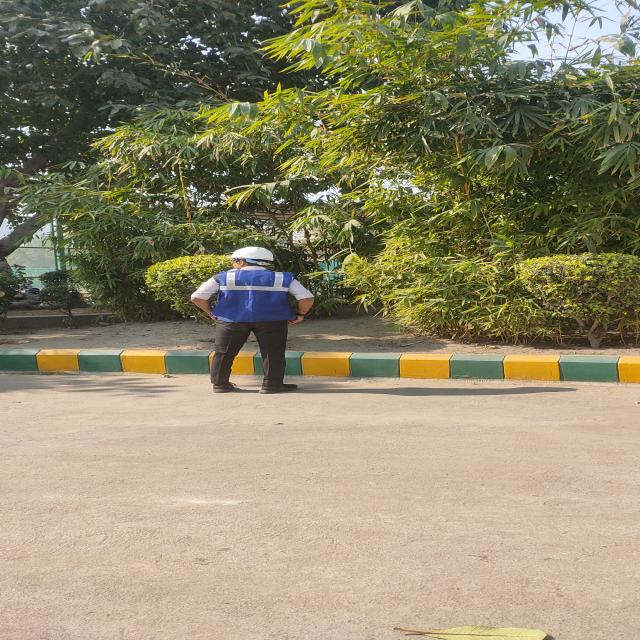safe: (212, 246, 297, 393)
